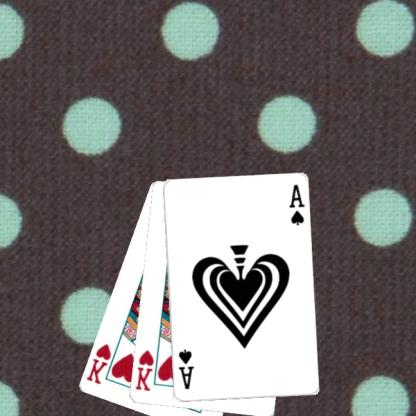AS: (288, 182, 308, 227), (177, 347, 197, 391)
KH: (85, 341, 114, 386), (134, 348, 157, 392)
